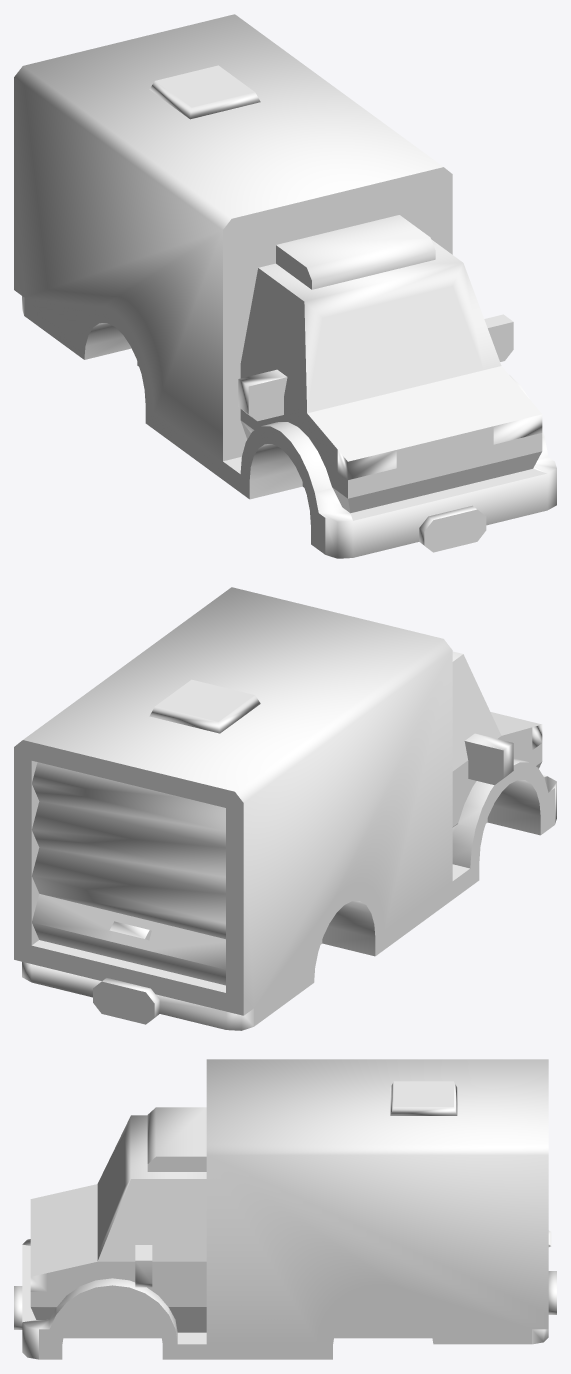
The model's file is delivery-vehicle.glb.
3 views of the same model, one above another, from view 1: azimuth 30°, elevation 25°; view 2: azimuth 150°, elevation 25°; view 3: azimuth 270°, elevation 25° (orthographic). The views are drawn at different scales.
Parts seen in each view (by area): view 1: delivery-vehicle; view 2: delivery-vehicle; view 3: delivery-vehicle.
Part boxes in pixels (x1=…): delivery-vehicle: x1=14, y1=14, x2=556, y2=558; delivery-vehicle: x1=14, y1=587, x2=556, y2=1030; delivery-vehicle: x1=14, y1=1059, x2=556, y2=1359.
Size of the model in its own units: 1.5 by 1.5 by 3.25.
Materials: 1 (1 with a texture image).
